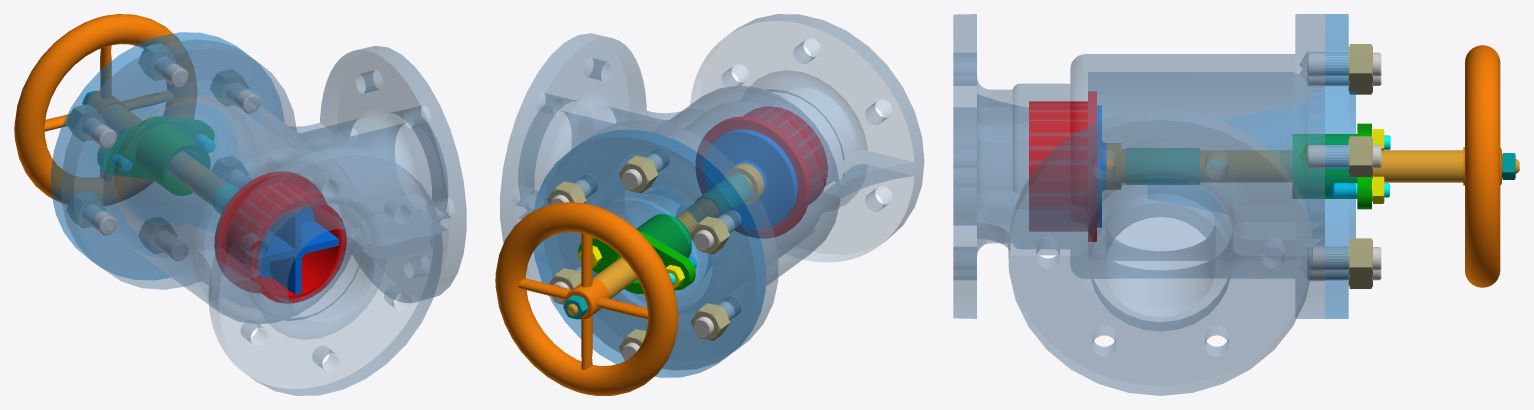
3 renders of one model, left to right at view 1: azimuth 30°, elevation 25°; view 2: azimuth 150°, elevation 25°; view 3: azimuth 270°, elevation 25°, orthographic. The views are drawn at different scales.
Parts seen in each view (by area): view 1: BODY, COVER, HAND WHEEL, VALVE SEAT, GLAND, hex nut style 2 gradeab_iso_Hexagon Nut ISO - 4033 - M16 - W (×6), VALVE, SPINDLE, STUD M021, STUD M019, STUD M020, STUD M018 (+1 smaller); view 2: BODY, COVER, HAND WHEEL, VALVE SEAT, VALVE, SPINDLE, hex nut style 2 gradeab_iso_Hexagon Nut ISO - 4033 - M16 - W (×5), GLAND, STUD M019, STUD M021, STUD M020, STUD M018; view 3: BODY, COVER, SPINDLE, VALVE SEAT, HAND WHEEL, GLAND, hex nut style 2 gradeab_iso_Hexagon Nut ISO - 4033 - M16 - W (×3), STUD M019, STUD M018, STUD M16, VALVE, STUD M017 (+1 smaller).
Boxes of the visible parts, x1=… form: BODY: x1=61, y1=39, x2=466, y2=395; COVER: x1=50, y1=32, x2=284, y2=279; HAND WHEEL: x1=14, y1=14, x2=196, y2=205; VALVE SEAT: x1=214, y1=171, x2=346, y2=303; GLAND: x1=97, y1=116, x2=214, y2=195; hex nut style 2 gradeab_iso_Hexagon Nut ISO - 4033 - M16 - W (×6): x1=66, y1=43, x2=248, y2=253; VALVE: x1=258, y1=208, x2=338, y2=294; SPINDLE: x1=103, y1=104, x2=238, y2=213; STUD M021: x1=82, y1=204, x2=116, y2=235; STUD M019: x1=154, y1=57, x2=188, y2=87; STUD M020: x1=82, y1=117, x2=116, y2=148; STUD M018: x1=226, y1=82, x2=260, y2=113; BODY: x1=500, y1=14, x2=924, y2=370; COVER: x1=533, y1=129, x2=766, y2=377; HAND WHEEL: x1=495, y1=202, x2=678, y2=395; VALVE SEAT: x1=696, y1=106, x2=827, y2=238; VALVE: x1=704, y1=129, x2=797, y2=228; SPINDLE: x1=567, y1=163, x2=764, y2=315; hex nut style 2 gradeab_iso_Hexagon Nut ISO - 4033 - M16 - W (×5): x1=547, y1=155, x2=730, y2=340; GLAND: x1=578, y1=214, x2=695, y2=293; STUD M019: x1=622, y1=149, x2=669, y2=189; STUD M021: x1=694, y1=297, x2=740, y2=337; STUD M020: x1=694, y1=210, x2=740, y2=250; STUD M018: x1=550, y1=175, x2=597, y2=204; BODY: x1=953, y1=14, x2=1324, y2=395; COVER: x1=1147, y1=14, x2=1355, y2=318; SPINDLE: x1=1106, y1=143, x2=1519, y2=189; VALVE SEAT: x1=1029, y1=91, x2=1096, y2=241; HAND WHEEL: x1=1463, y1=45, x2=1501, y2=287; GLAND: x1=1292, y1=123, x2=1371, y2=209; hex nut style 2 gradeab_iso_Hexagon Nut ISO - 4033 - M16 - W (×3): x1=1348, y1=44, x2=1372, y2=278; STUD M019: x1=1307, y1=52, x2=1381, y2=76; STUD M018: x1=1307, y1=145, x2=1381, y2=168; STUD M16: x1=1307, y1=247, x2=1381, y2=270; VALVE: x1=1097, y1=105, x2=1106, y2=227; STUD M017: x1=1307, y1=269, x2=1381, y2=280.
Bounding box in the file's own units: 0.264 × 0.206 × 0.3825.
